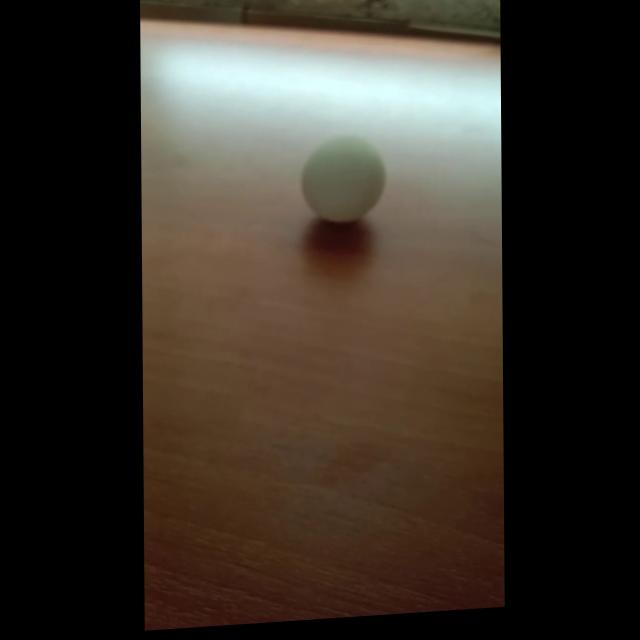white ball: (300, 132, 387, 227)
